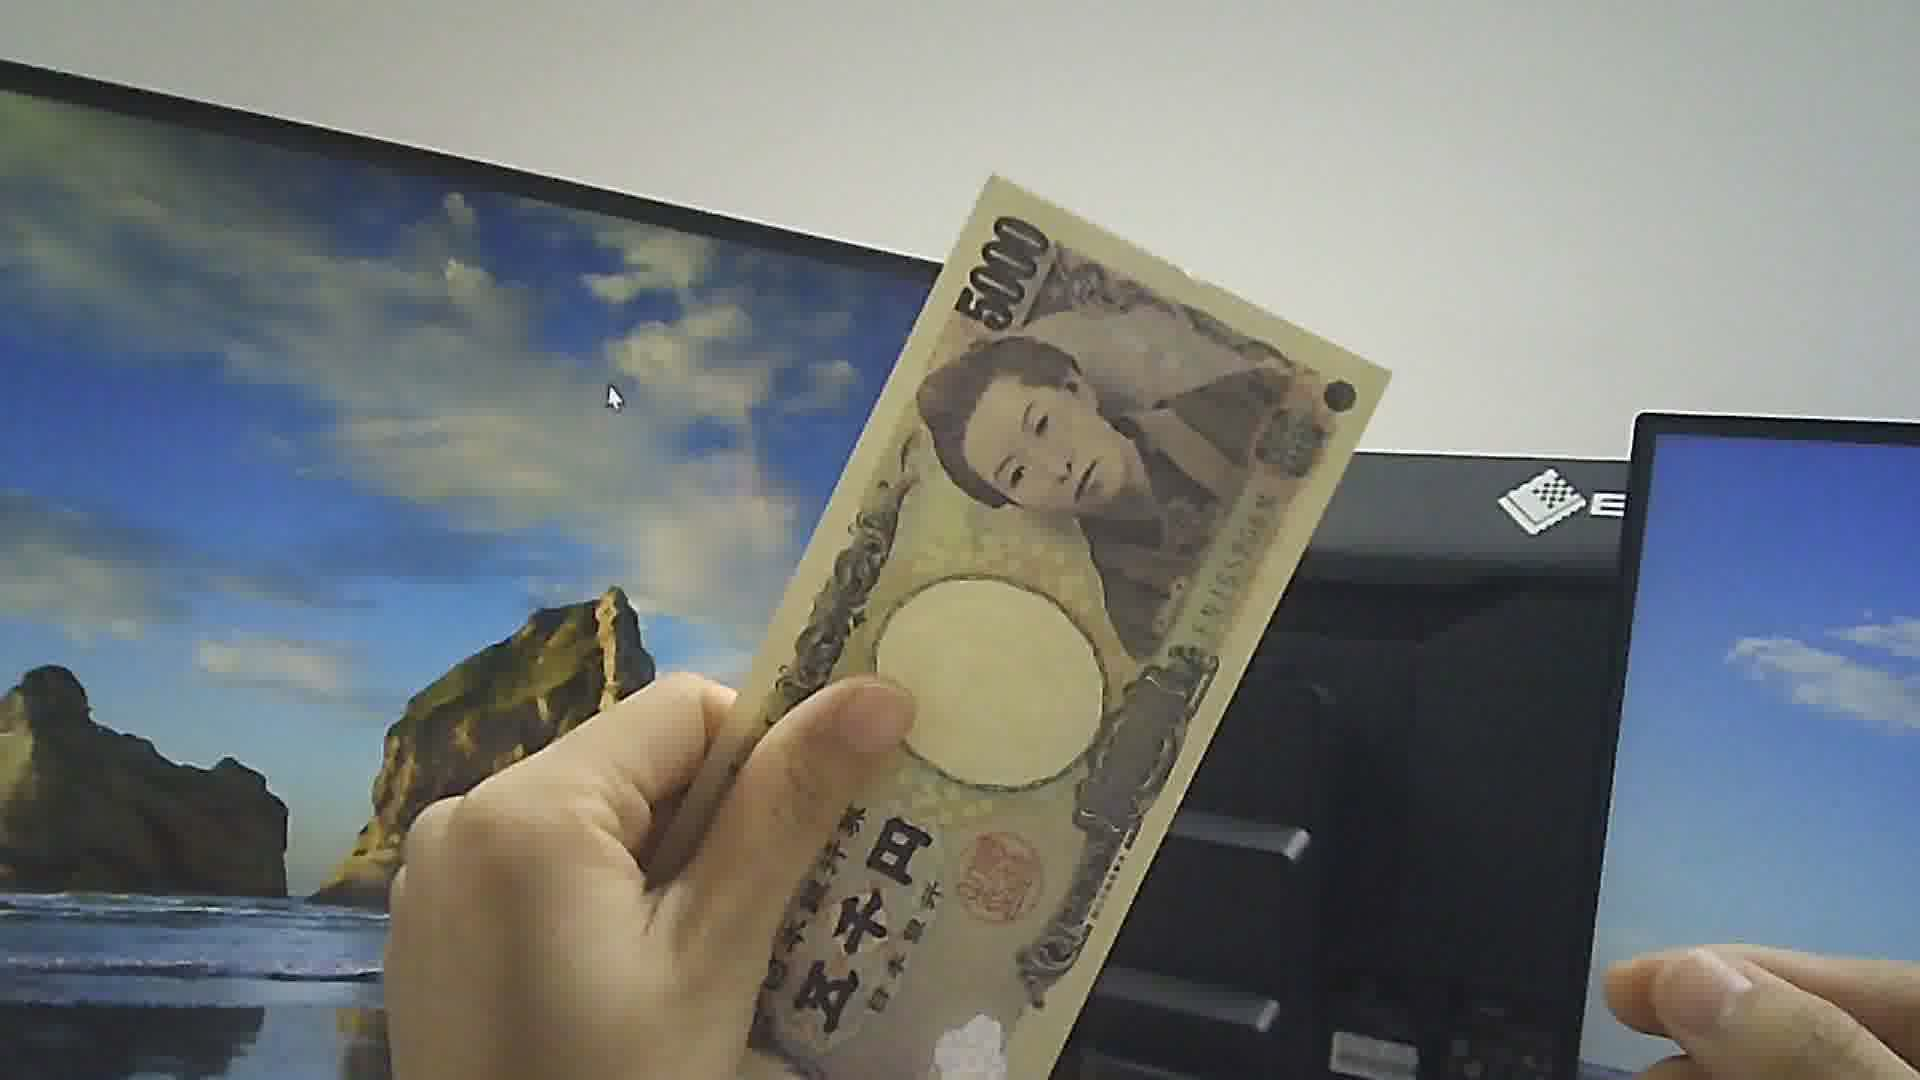5,000 Yen: (665, 174, 1361, 1079)
